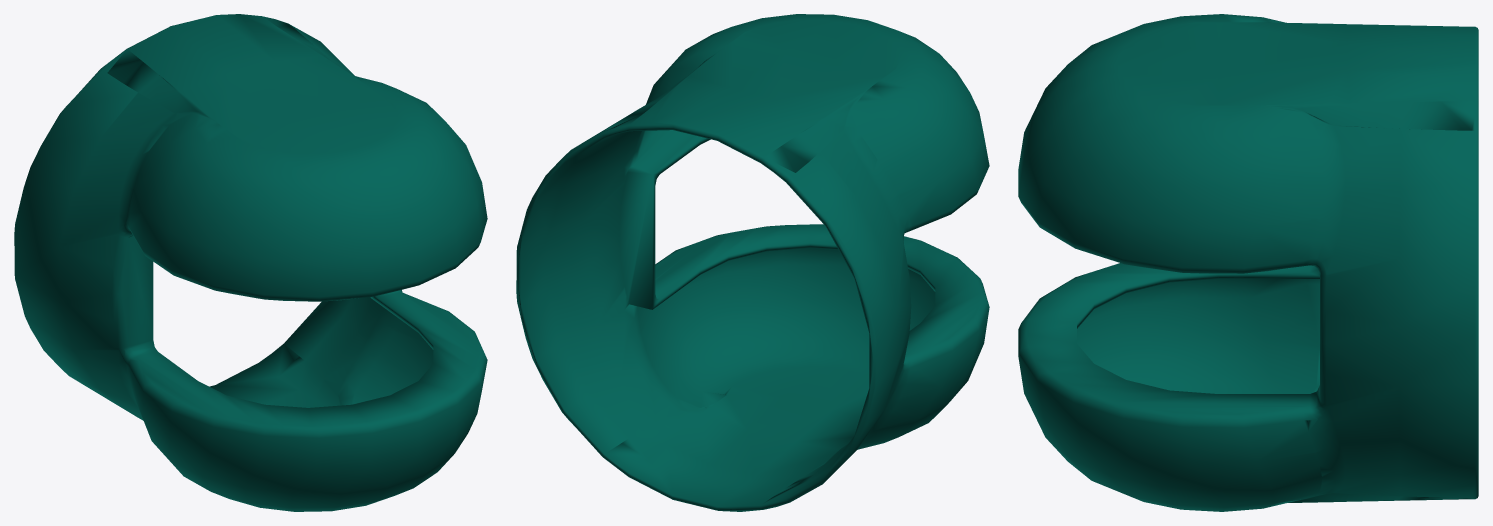
File: 6a12000_halsmitte_t12.obj
3 renders of one model, left to right at view 1: azimuth 30°, elevation 25°; view 2: azimuth 150°, elevation 25°; view 3: azimuth 270°, elevation 25°, orthographic. The views are drawn at different scales.
Bounding box in the file's own units: 0.1393 × 0.139 × 0.1363.
